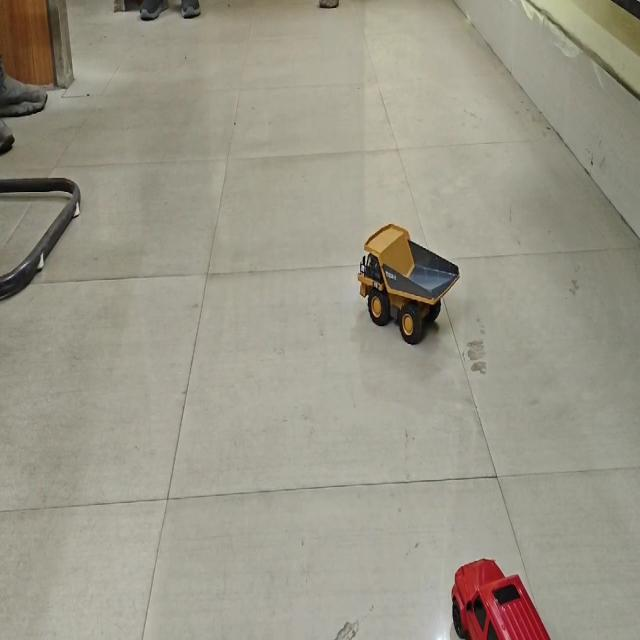dump_truck: (355, 219, 460, 338)
light_vehicle: (445, 557, 551, 640)
